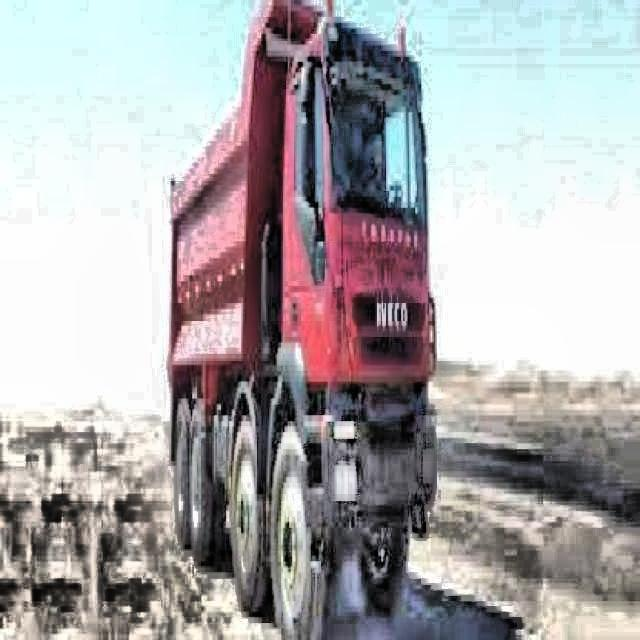dump_truck: (162, 0, 442, 640)
